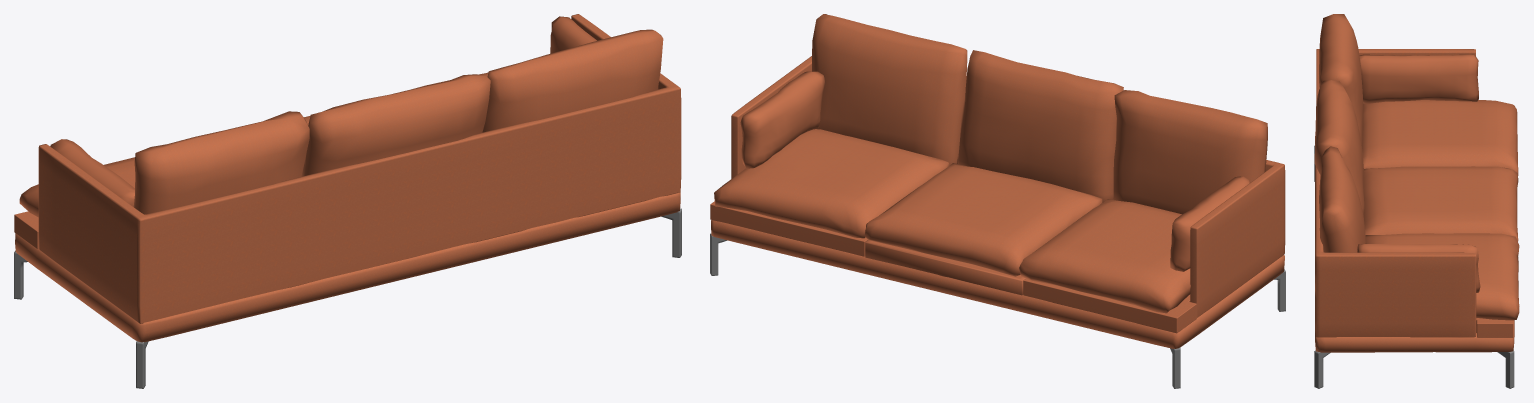
File: Sofa.fbx
The picture shows the model from 3 angles, left to right: view 1: azimuth 30°, elevation 25°; view 2: azimuth 150°, elevation 25°; view 3: azimuth 270°, elevation 25°; orthographic projection. The views are drawn at different scales.
Visible parts, largest first — view 1: backrest_L, base_L, pillow_rigth_L, pillow_center_L, pillow_left_L, armrest_right_L, legs_L, armrest_left_L, therd_base_right_L, second_base_left_and_right_L; view 2: pillow_center_L, pillow_left_L, therd_base_center_L, therd_base_left_L, pillow_rigth_L, therd_base_right_L, backrest_L, base_L, second_base_left_and_right_L, armrest_left_L, second_base_center_L, armrest_right_L (+1 smaller); view 3: backrest_L, therd_base_center_L, therd_base_right_L, armrest_right_L, therd_base_left_L, pillow_left_L, base_L, pillow_center_L, pillow_rigth_L, armrest_left_L, legs_L, second_base_left_and_right_L.
Boxes of the visible parts, x1,y1,x2,y2 form: backrest_L: (38, 14, 681, 323); base_L: (15, 192, 680, 342); pillow_rigth_L: (133, 111, 309, 214); pillow_center_L: (304, 74, 490, 175); pillow_left_L: (482, 29, 663, 132); armrest_right_L: (50, 139, 134, 206); legs_L: (14, 208, 681, 388); armrest_left_L: (550, 16, 596, 53); therd_base_right_L: (19, 157, 135, 217); second_base_left_and_right_L: (14, 211, 38, 248); pillow_center_L: (958, 50, 1123, 202); pillow_left_L: (812, 14, 967, 165); therd_base_center_L: (864, 163, 1102, 276); therd_base_left_L: (714, 129, 949, 238); pillow_rigth_L: (1113, 90, 1267, 214); therd_base_right_L: (1019, 199, 1190, 313); backrest_L: (731, 56, 1285, 317); base_L: (711, 220, 1284, 348); second_base_left_and_right_L: (710, 201, 1196, 333); armrest_left_L: (740, 71, 824, 168); second_base_center_L: (865, 240, 1025, 295); armrest_right_L: (1170, 176, 1249, 271); backrest_L: (1316, 49, 1476, 337); therd_base_center_L: (1363, 166, 1518, 241); therd_base_right_L: (1361, 100, 1518, 175); armrest_right_L: (1359, 54, 1478, 103); therd_base_left_L: (1365, 233, 1519, 320); pillow_left_L: (1319, 146, 1365, 252); base_L: (1315, 136, 1514, 352); pillow_center_L: (1314, 80, 1364, 214); pillow_rigth_L: (1319, 14, 1363, 144); armrest_left_L: (1357, 243, 1480, 292); legs_L: (1314, 145, 1514, 388); second_base_left_and_right_L: (1476, 318, 1513, 337).
Bounding box in the file's own units: 452 × 178 × 188.
